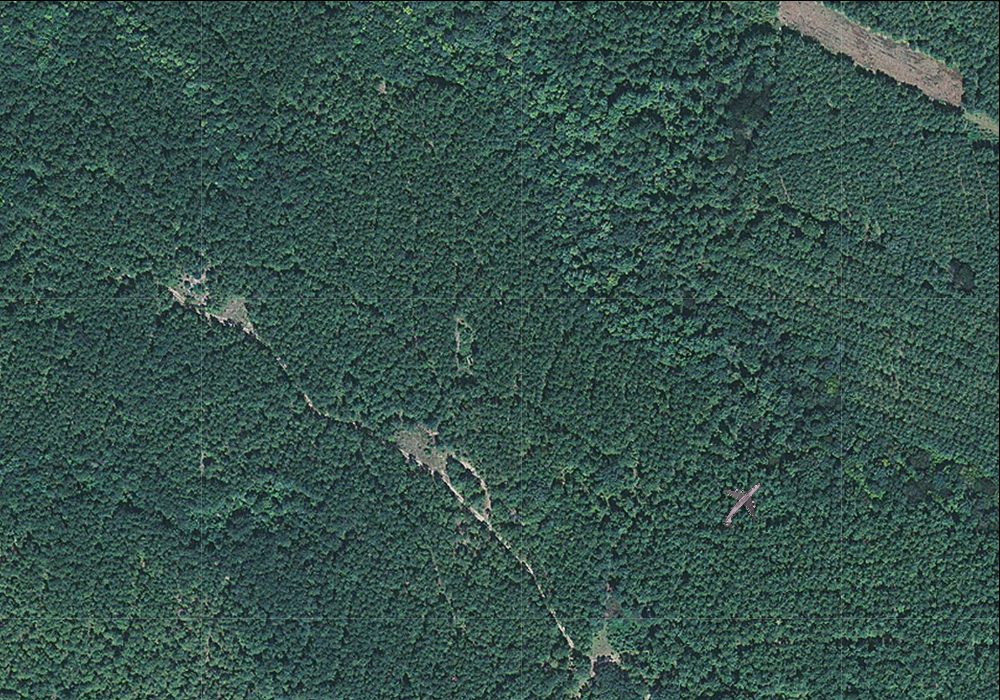plane: (705, 467, 780, 542)
